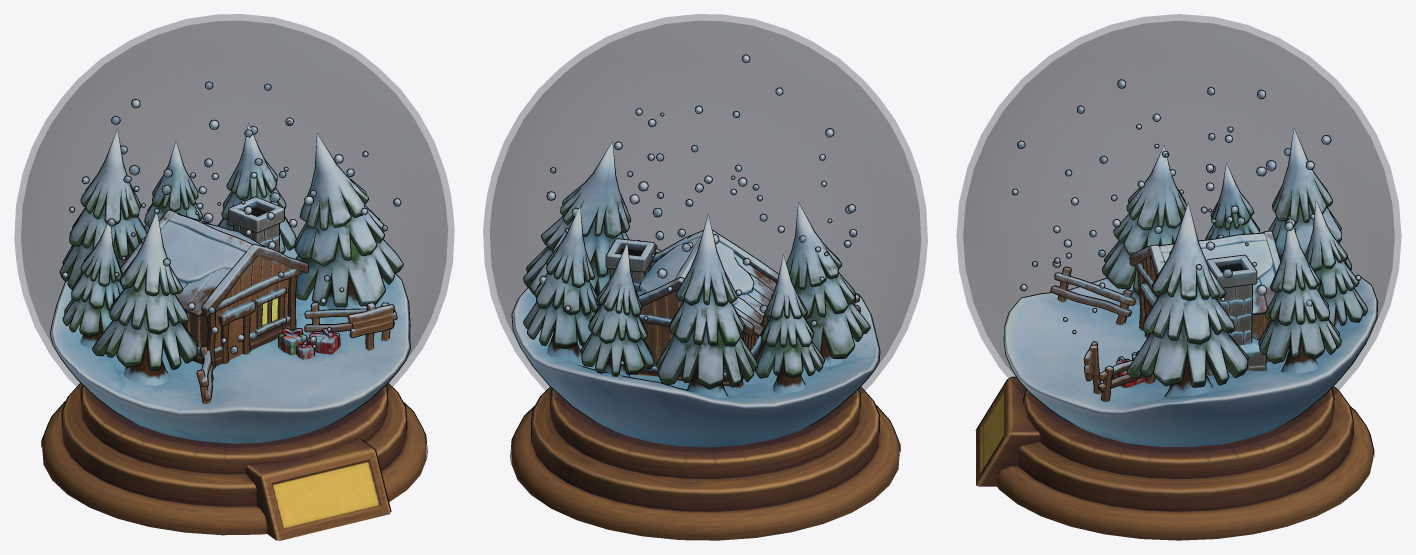
The model's file is christmas_ball-2.glb.
3 views of the same model, side by side, from view 1: azimuth 30°, elevation 25°; view 2: azimuth 150°, elevation 25°; view 3: azimuth 270°, elevation 25° (orthographic).
Parts seen in each view (by area): view 1: glass, christmass_ball; view 2: glass, christmass_ball; view 3: glass, christmass_ball.
Boxes of the visible parts, x1,y1,x2,y2 form: glass: (14, 14, 454, 447); christmass_ball: (41, 81, 427, 540); glass: (483, 14, 927, 452); christmass_ball: (510, 54, 900, 540); glass: (956, 14, 1401, 451); christmass_ball: (975, 79, 1378, 540).
Size of the model in its own units: 200 by 210 by 200.
Materials: 3 (2 with a texture image).
